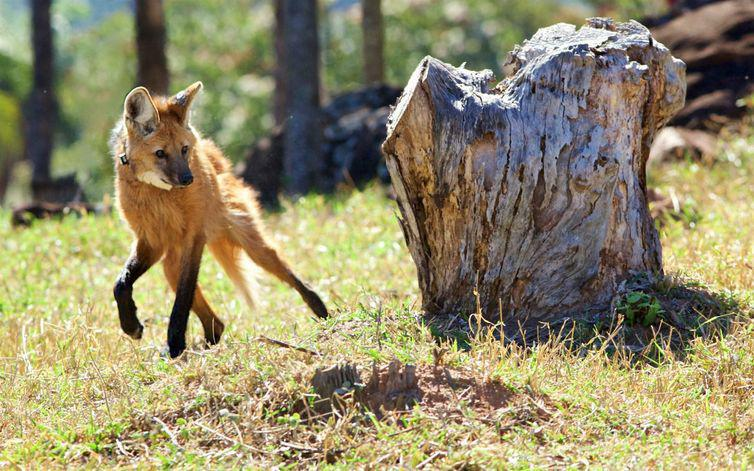LoboGuara: (90, 75, 344, 364)
